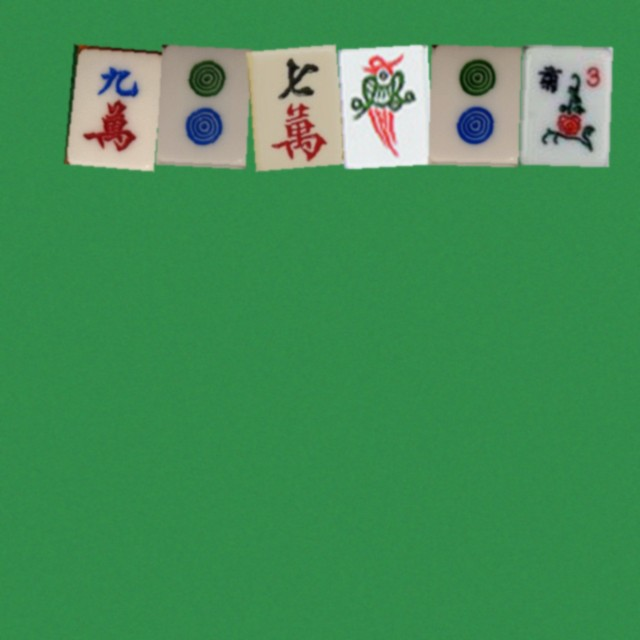tile: (64, 44, 154, 164), (155, 44, 245, 164), (246, 44, 336, 164), (337, 44, 427, 164), (428, 44, 518, 164), (519, 44, 609, 164)
